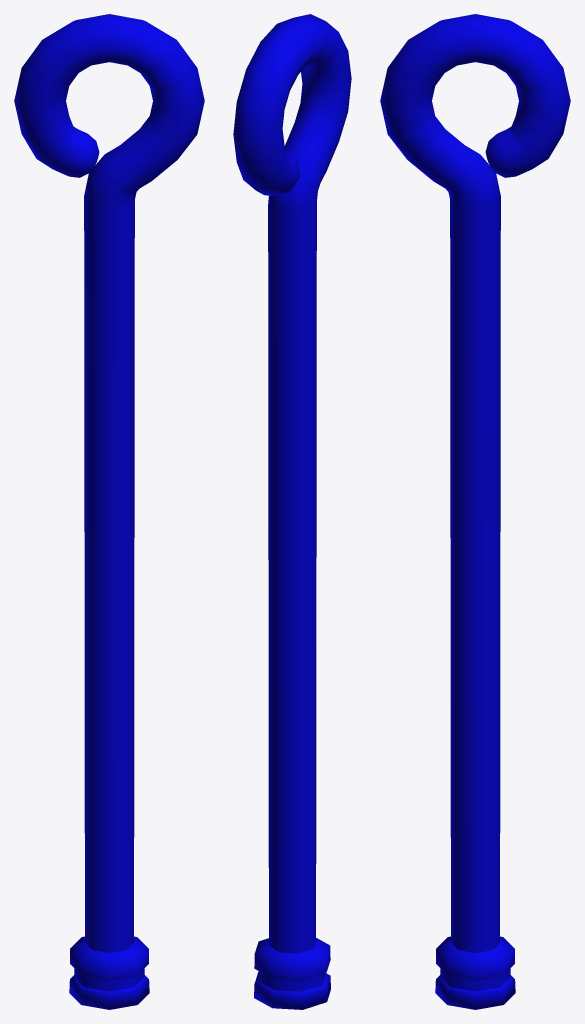
Rendered from SM_Pulley_Magnet_Rod.fbx.
The picture shows the model from 3 angles, left to right: view 1: azimuth 90°, elevation 25°; view 2: azimuth 150°, elevation 25°; view 3: azimuth 270°, elevation 25°; orthographic projection.
Visible parts, largest first — view 1: sweep2; view 2: sweep2; view 3: sweep2.
Boxes of the visible parts, left/top/right/bottom form: sweep2: left=14, top=14, right=204, bottom=1009; sweep2: left=233, top=14, right=351, bottom=1009; sweep2: left=380, top=14, right=570, bottom=1009.
Size of the model in its own units: 5.85 by 78.65 by 13.88.
